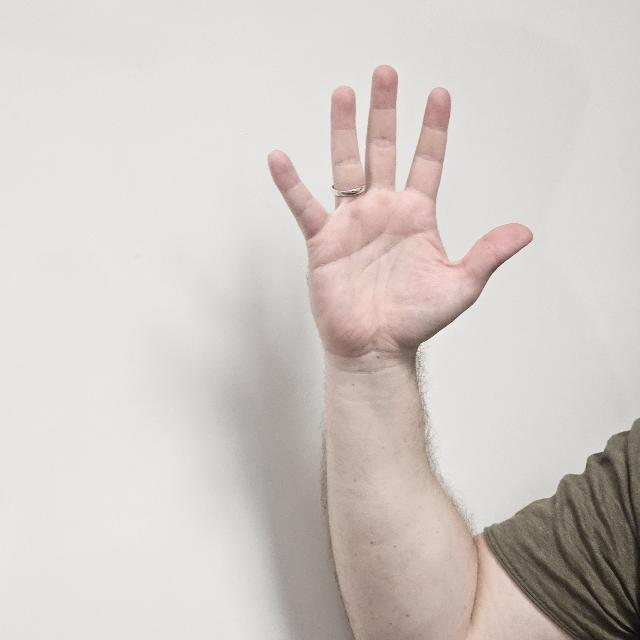X: (267, 64, 535, 394)
